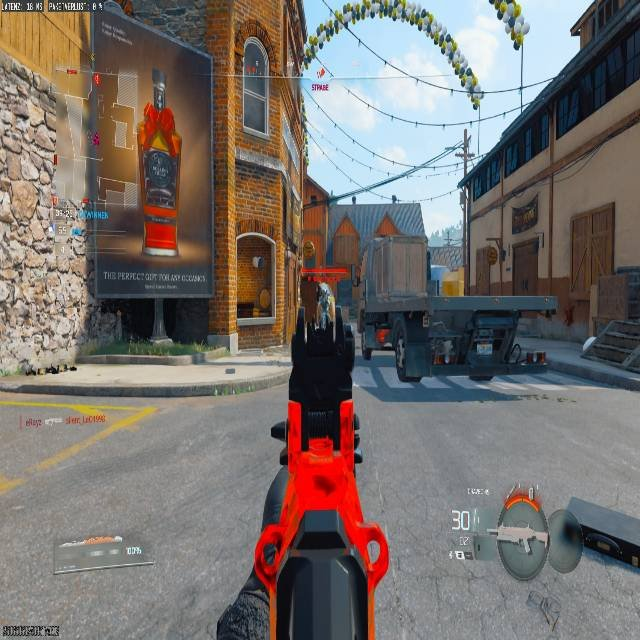head: (319, 283, 327, 290)
player: (316, 283, 332, 327)
